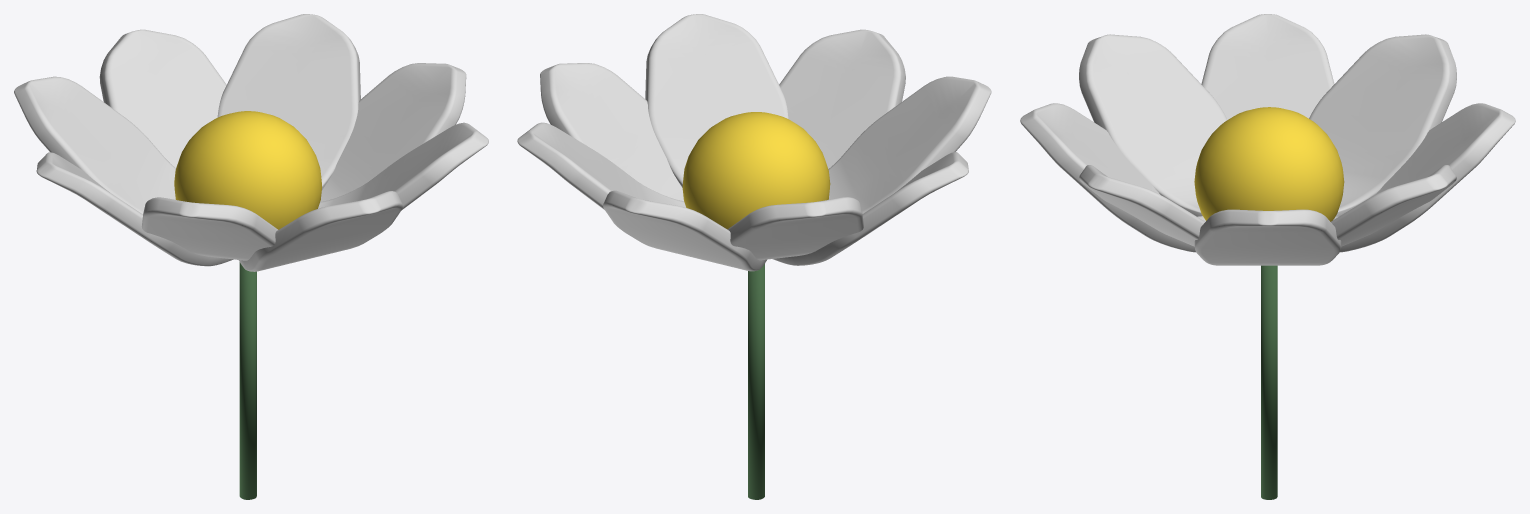
File: flower.glb
3 renders of one model, left to right at view 1: azimuth 30°, elevation 25°; view 2: azimuth 150°, elevation 25°; view 3: azimuth 270°, elevation 25°, orthographic.
Visible parts, largest first — view 1: Cube.005, Sphere, Cube.007, Cube.003, Cube.001, Cube.004, Cube.006, Cube.008, Cube, Cube.002; view 2: Cube.008, Sphere, Cube.006, Cube.004, Cube.001, Cube.003, Cube.007, Cube.005, Cube, Cube.002; view 3: Cube.006, Cube.007, Sphere, Cube.002, Cube.001, Cube.003, Cube.004, Cube, Cube.008, Cube.005.
Part boxes in pixels (x1,y1,x2,y2): Cube.005: (217, 14, 360, 189); Sphere: (174, 111, 322, 229); Cube.007: (14, 76, 175, 214); Cube.003: (99, 29, 226, 167); Cube.001: (320, 63, 466, 201); Cube.004: (238, 191, 403, 271); Cube.006: (142, 197, 277, 260); Cube.008: (318, 122, 488, 210); Cube: (239, 262, 256, 499); Cube.002: (36, 152, 233, 266); Cube.008: (645, 14, 788, 187); Sphere: (682, 112, 830, 229); Cube.006: (828, 76, 991, 213); Cube.004: (779, 29, 905, 168); Cube.001: (540, 63, 683, 201); Cube.003: (603, 190, 766, 271); Cube.007: (727, 197, 863, 260); Cube.005: (517, 122, 685, 209); Cube: (748, 264, 764, 499); Cube.002: (772, 152, 968, 265); Cube.006: (1079, 34, 1227, 216); Cube.007: (1309, 34, 1456, 216); Sphere: (1194, 107, 1344, 221); Cube.002: (1201, 14, 1334, 119); Cube.001: (1194, 209, 1341, 265); Cube.003: (1340, 103, 1515, 252); Cube.004: (1020, 103, 1195, 252); Cube: (1261, 265, 1277, 499); Cube.008: (1079, 165, 1205, 246); Cube.005: (1331, 165, 1456, 246).
Size of the model in its own units: 0.5664 by 0.4942 by 0.5664.
